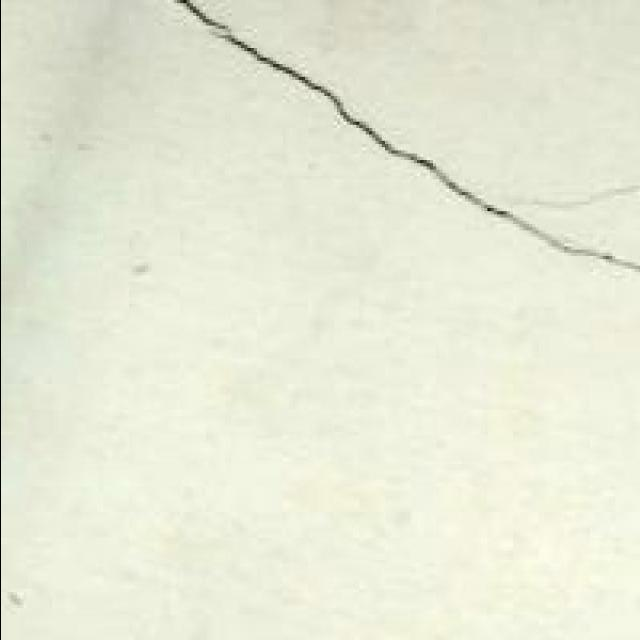SurfaceCrack: (162, 0, 640, 308)
